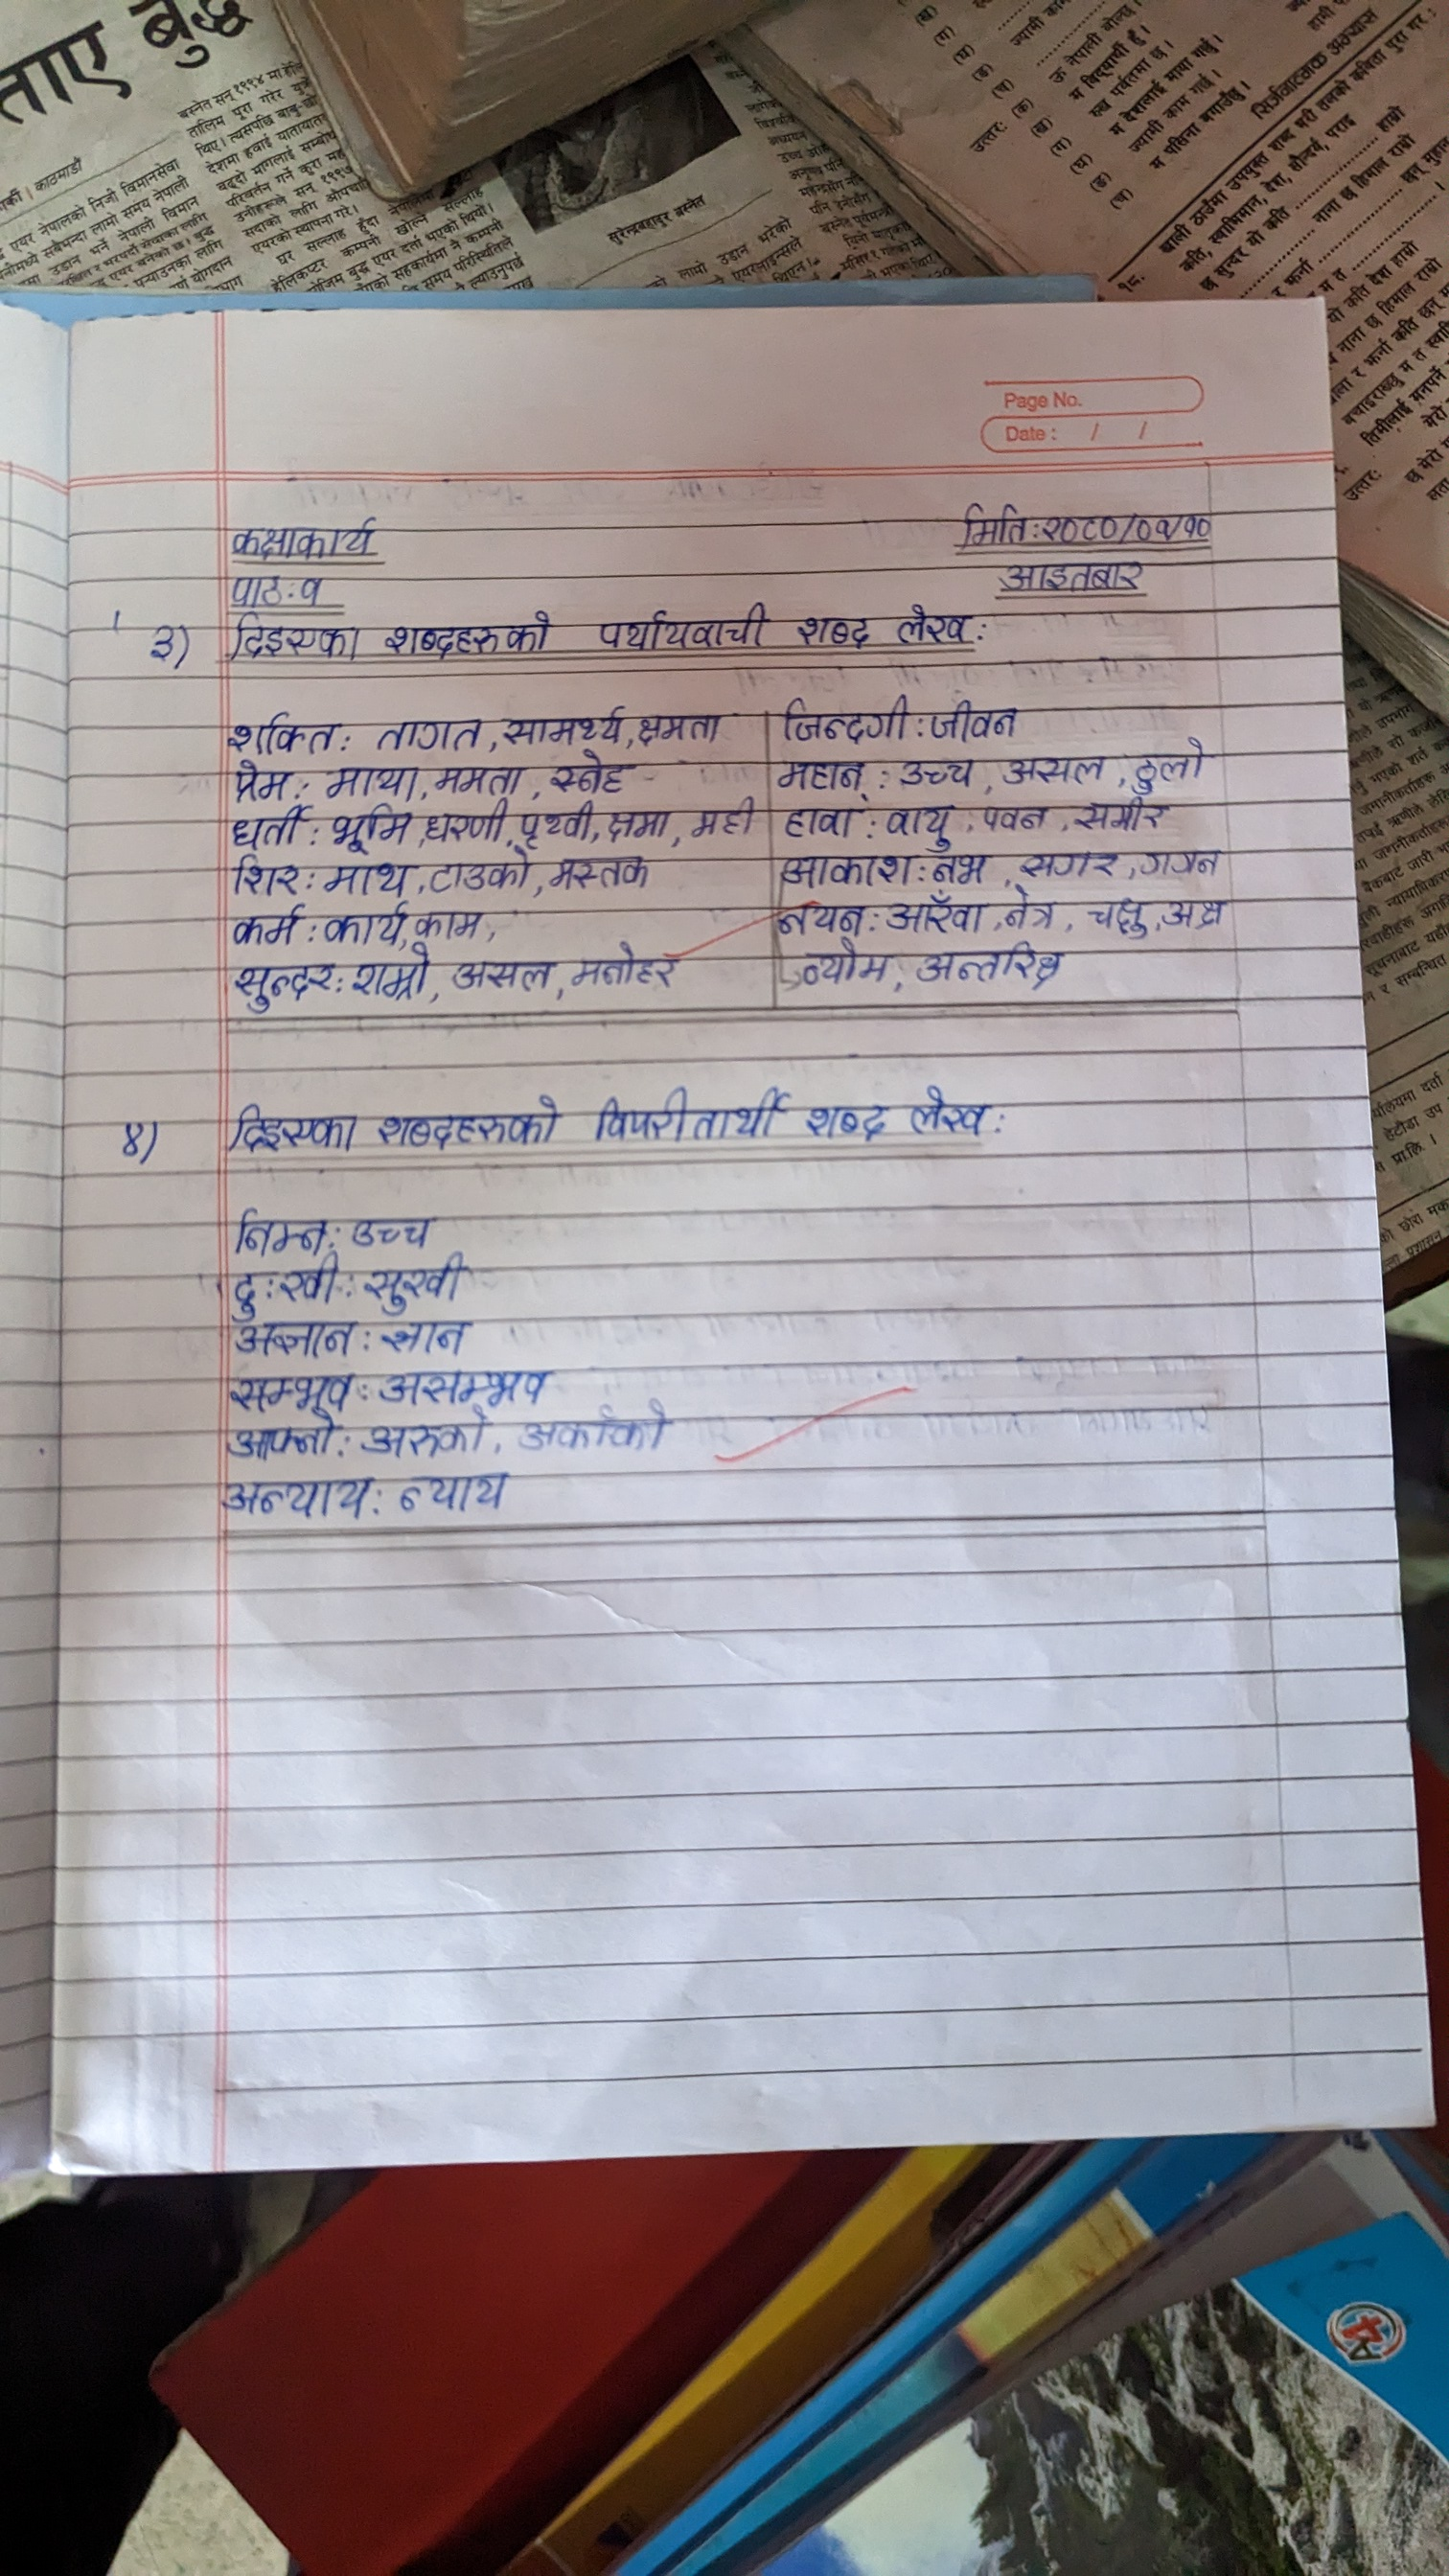text: (579, 1074, 789, 1155), (372, 1086, 561, 1148), (593, 600, 771, 656), (382, 605, 556, 662), (209, 1099, 364, 1159), (225, 511, 391, 563), (770, 688, 915, 745), (209, 1477, 375, 1525), (522, 1408, 686, 1456), (395, 1467, 538, 1520), (568, 936, 688, 996), (916, 941, 1072, 987), (375, 1366, 550, 1407), (226, 1258, 341, 1315), (364, 1253, 471, 1311), (228, 616, 363, 662), (223, 1369, 359, 1414), (499, 699, 623, 747), (906, 1079, 993, 1146), (364, 1410, 495, 1454), (989, 561, 1148, 596), (219, 711, 343, 755), (235, 1316, 359, 1361), (922, 695, 1028, 745), (232, 961, 341, 1008), (780, 853, 915, 892), (428, 851, 536, 897), (226, 1205, 336, 1249), (226, 1419, 340, 1461), (796, 943, 895, 991), (352, 950, 435, 1007), (366, 717, 488, 754), (347, 1201, 444, 1247), (798, 1097, 888, 1146), (547, 853, 651, 895), (768, 757, 881, 796), (1008, 846, 1123, 883), (892, 598, 975, 649), (377, 1316, 476, 1359), (1129, 740, 1210, 791), (223, 906, 313, 952), (448, 957, 557, 994), (950, 499, 1031, 548), (888, 893, 978, 938), (433, 757, 531, 798), (777, 897, 872, 938), (517, 800, 600, 846), (633, 706, 741, 741), (228, 807, 313, 851), (326, 764, 423, 801), (791, 605, 872, 649), (692, 796, 761, 847), (326, 902, 409, 945), (1081, 890, 1152, 939), (333, 807, 407, 853), (324, 860, 407, 901), (545, 752, 625, 794), (1076, 796, 1171, 832), (225, 856, 306, 897), (895, 755, 987, 791), (428, 807, 511, 846), (1003, 754, 1108, 784), (1159, 892, 1230, 936), (883, 803, 952, 847), (416, 904, 487, 947), (998, 888, 1060, 934), (784, 803, 856, 842), (1040, 510, 1123, 543), (225, 764, 294, 801), (142, 617, 189, 671), (1141, 842, 1224, 872), (605, 803, 667, 842), (110, 1113, 150, 1168), (978, 803, 1054, 832), (226, 571, 287, 603), (1182, 502, 1219, 554), (925, 855, 991, 883), (1134, 508, 1178, 545), (297, 577, 329, 607)
